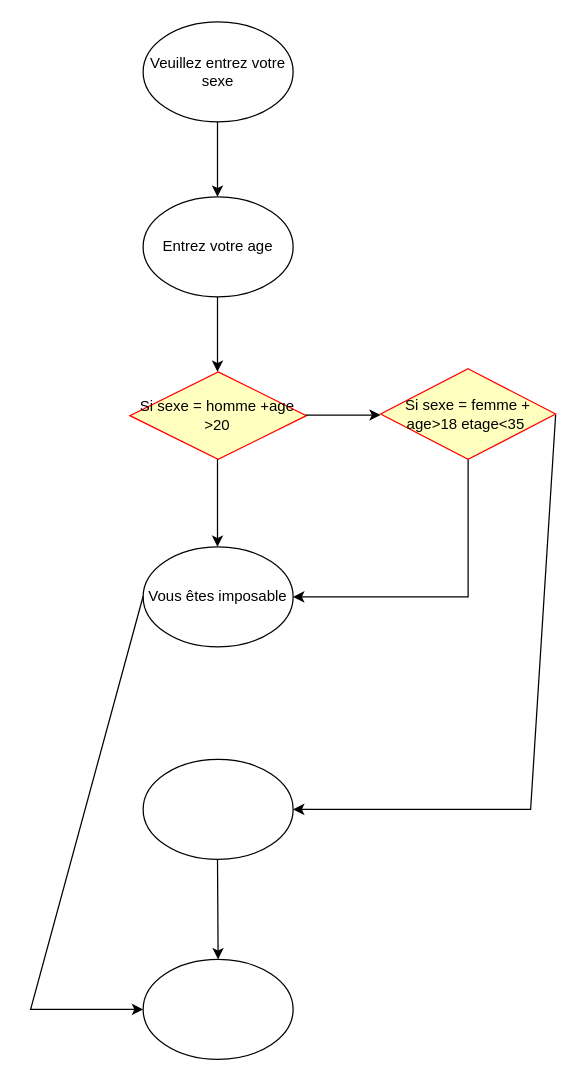
This 588x1081 diagram has some shape labels left out. The box of each missing label's shape, as (x1, y1, x2, y2) in pixels:
Fin de l'algorithme: (142, 958, 293, 1059)
Vous n'êtes pas imposable: (142, 758, 293, 859)
